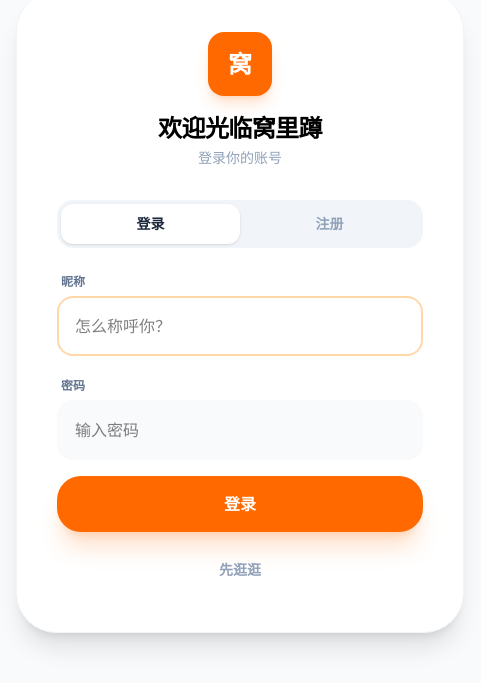
Test: IdentityForm › shows error on empty submission
There are two "登录" buttons (tab + submit), use the submit one
Click the button "登录" below "密码".
click(240, 504)  # box [57, 476, 423, 532]
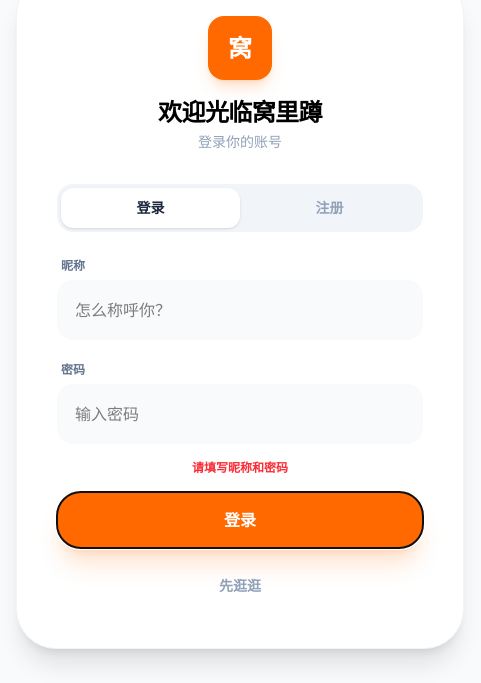
Now the text "请填写昵称和密码" is shown, box [192, 459, 288, 476]
